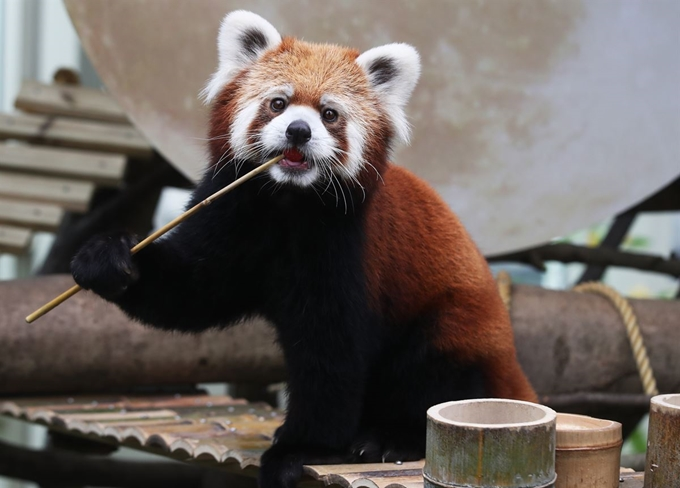redPanda: (59, 10, 506, 374)
